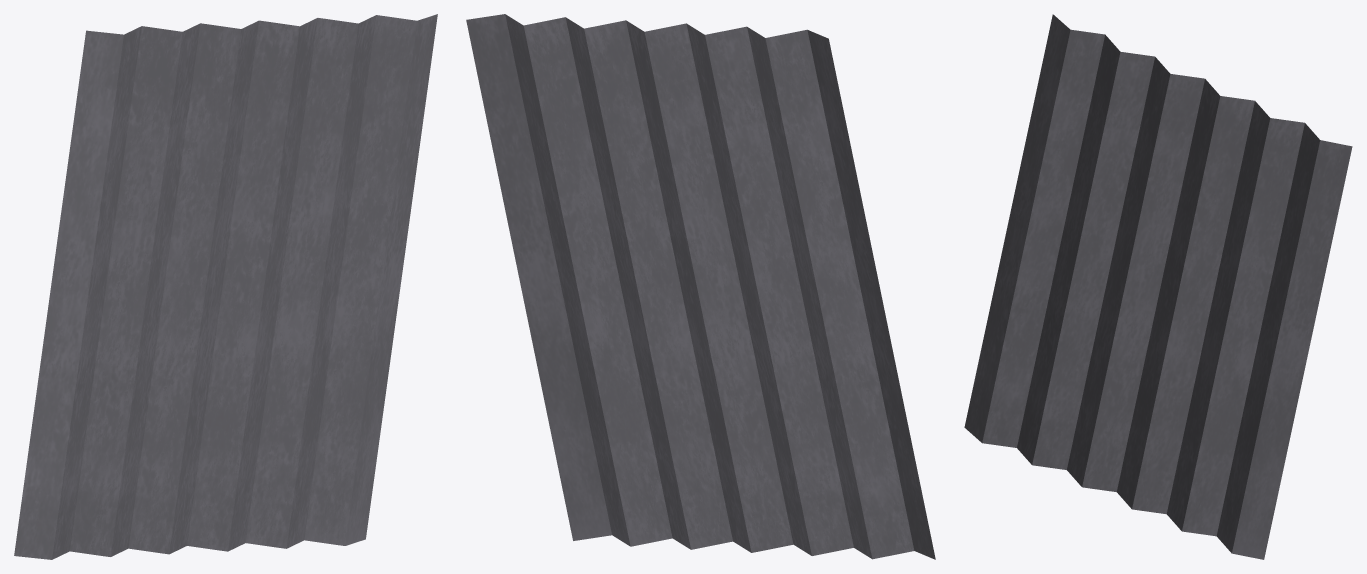
The model's file is destruido 3.fbx.
The picture shows the model from 3 angles, left to right: view 1: azimuth 30°, elevation 25°; view 2: azimuth 150°, elevation 25°; view 3: azimuth 330°, elevation 25°; orthographic projection. The views are drawn at different scales.
Visible parts, largest first — view 1: Plane.042; view 2: Plane.042; view 3: Plane.042.
Part boxes in pixels (box(x1,y1,x2,y2)): Plane.042: box(14, 14, 437, 559); Plane.042: box(466, 14, 935, 559); Plane.042: box(964, 14, 1352, 559).
Bounding box in the file's own units: 188 × 230 × 20.72.
1 material, 1 textured.
